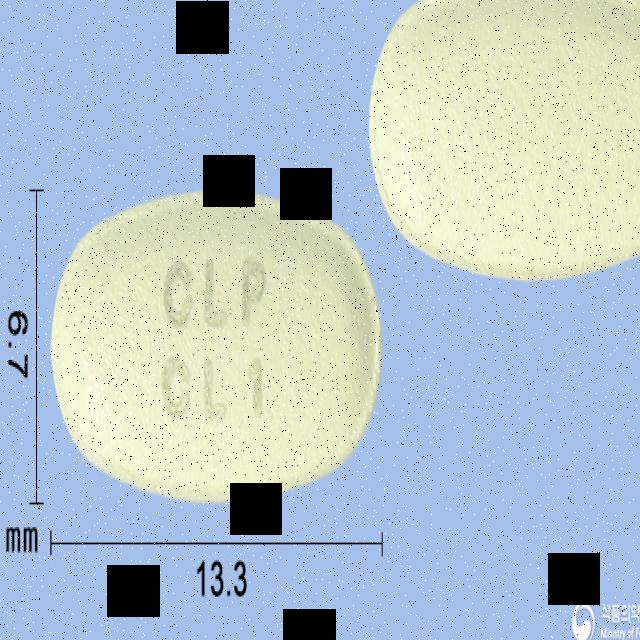Celltrion Clarithromycin - 500mg: (49, 185, 384, 509)
